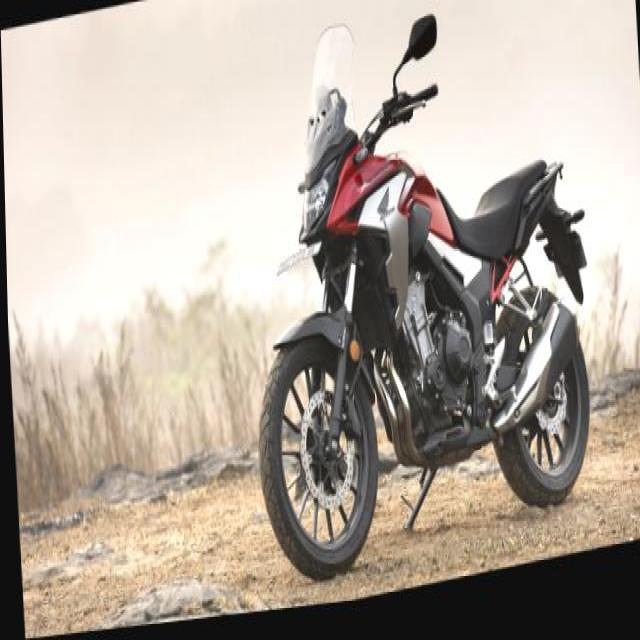CB500X: (235, 0, 595, 601)
